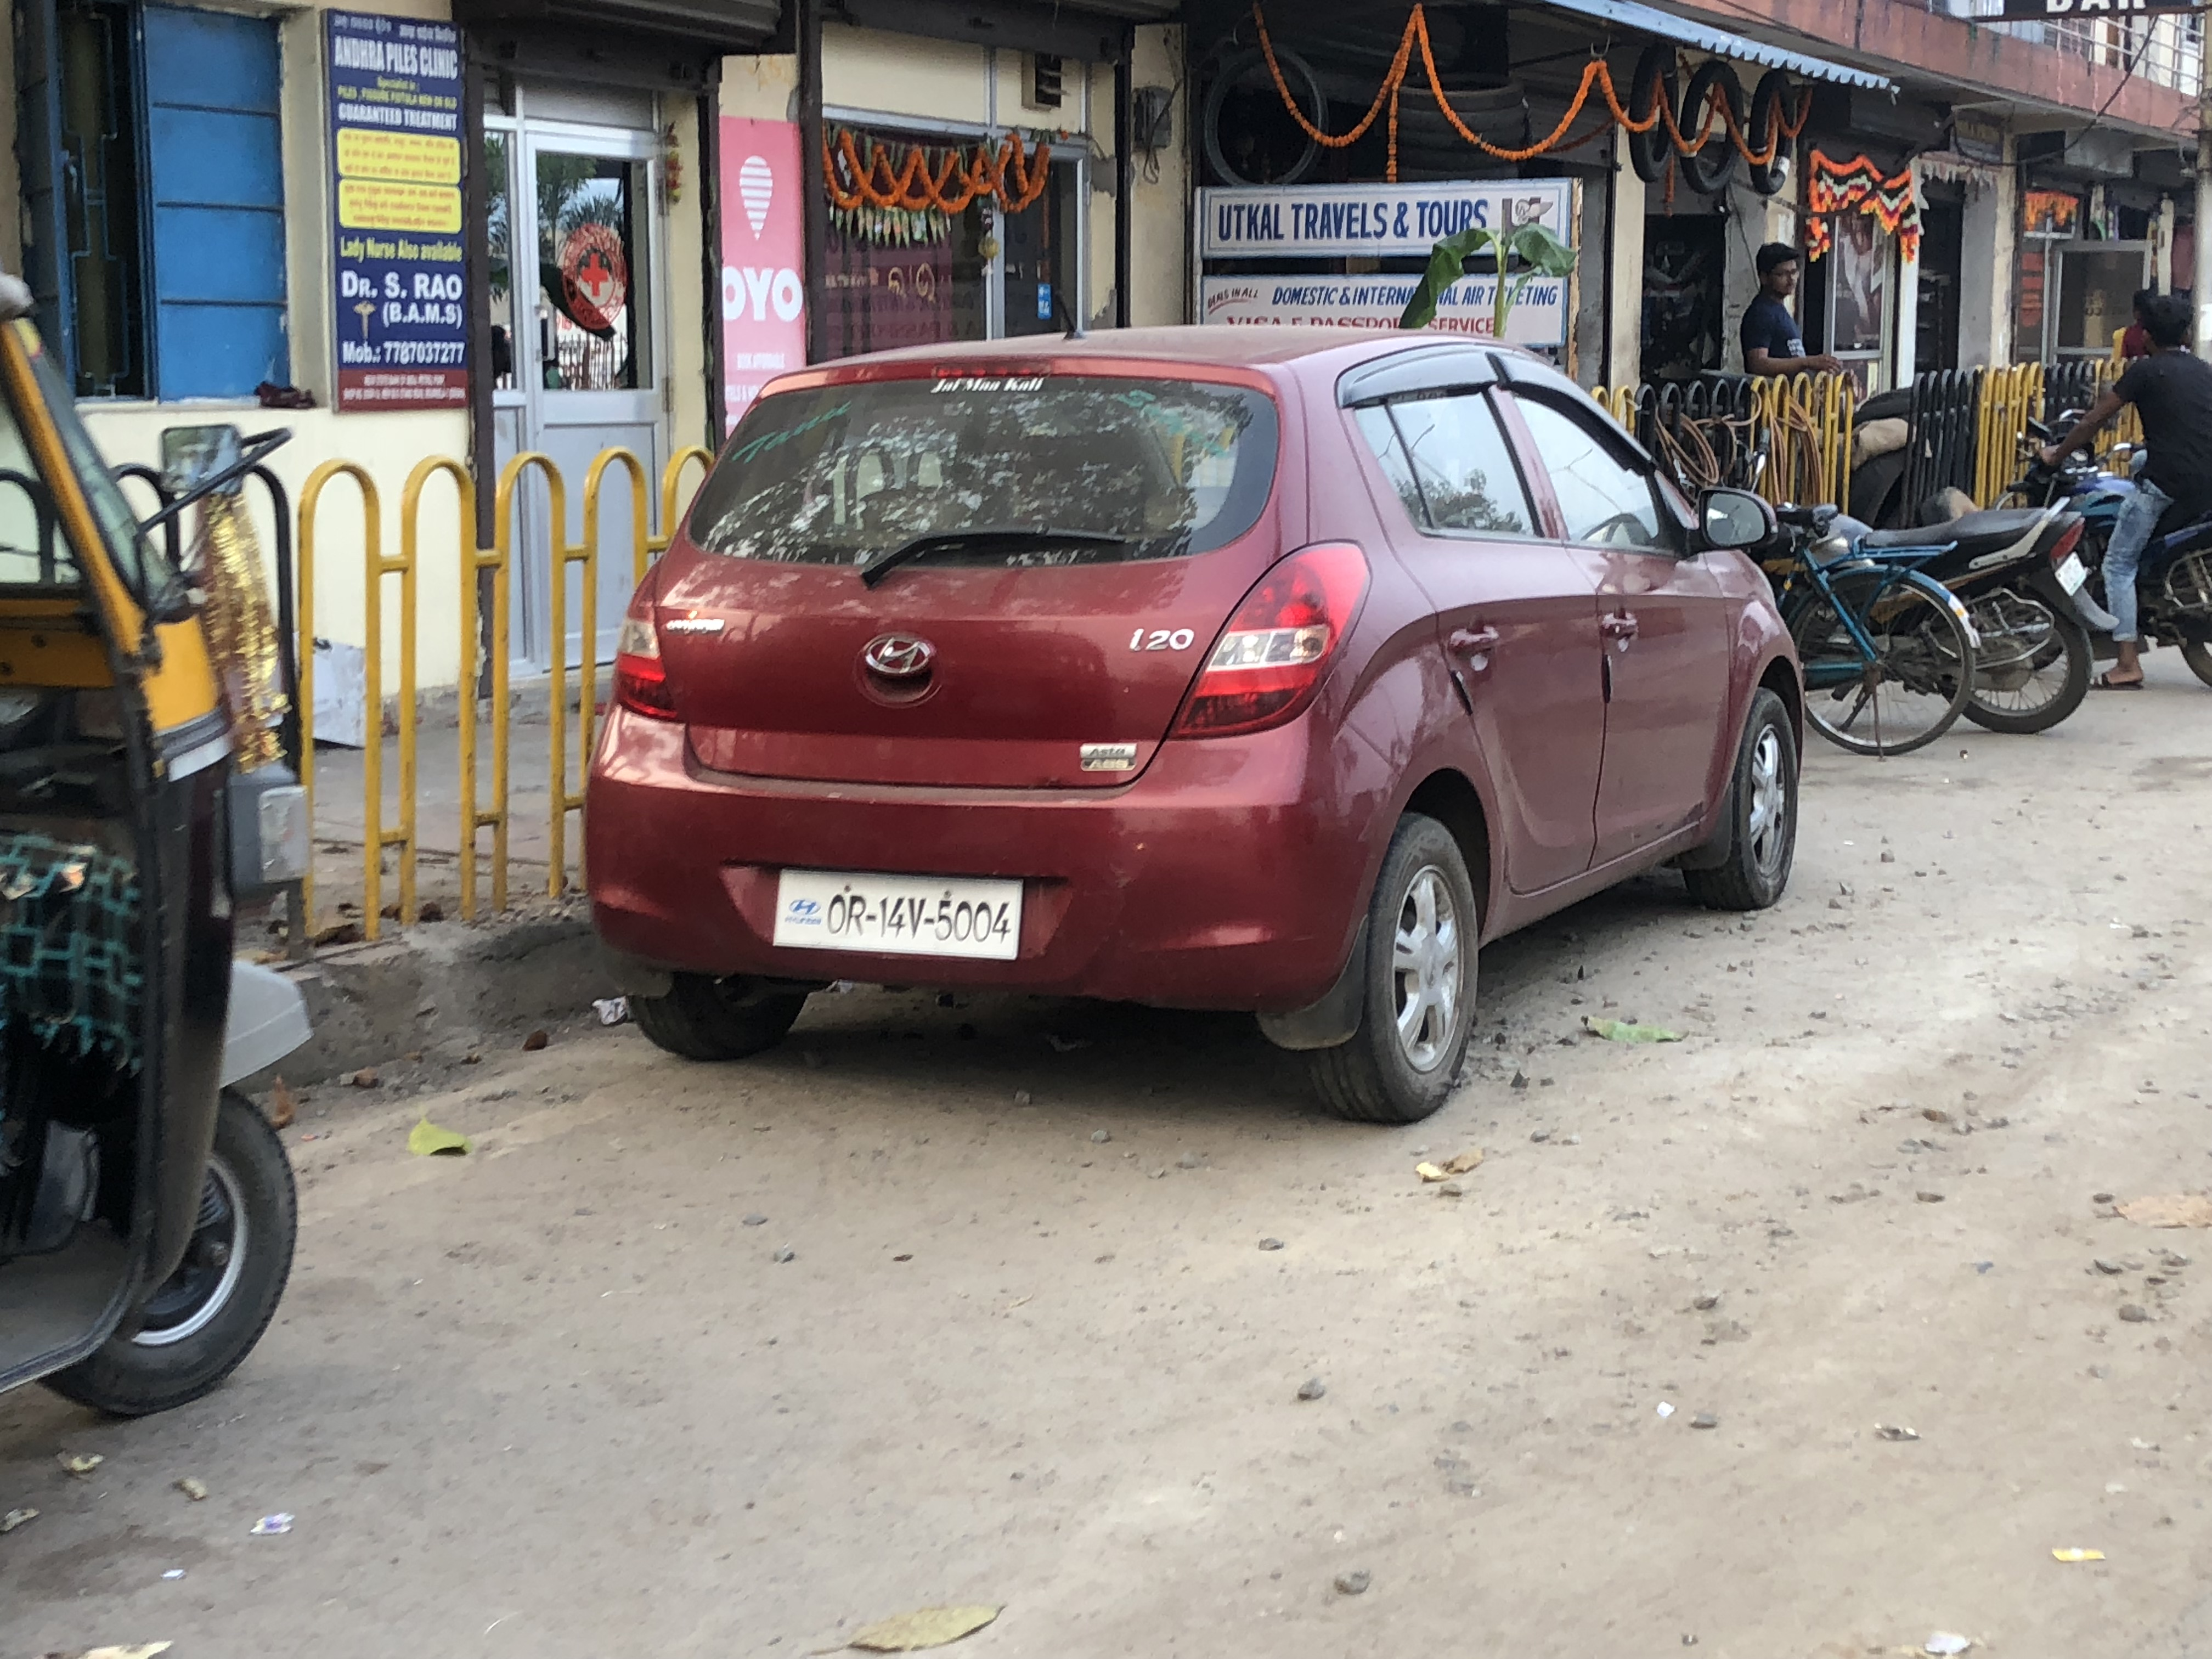licenseplate: (761, 853, 1029, 971)
